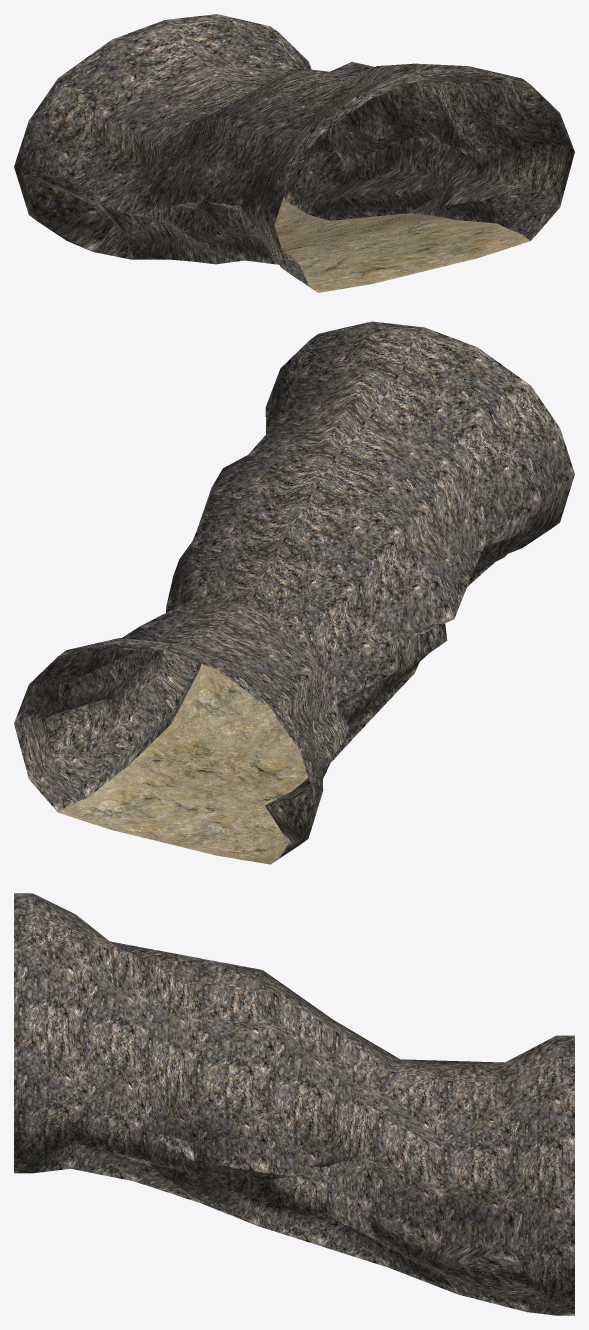
The model's file is pir_m_are_cav_hallWideAscend.fbx.
3 renders of one model, top to bottom at view 1: azimuth 30°, elevation 25°; view 2: azimuth 150°, elevation 25°; view 3: azimuth 270°, elevation 25°, orthographic. The views are drawn at different scales.
Visible parts, largest first — view 1: hallWideAscend_wall, hallWideAscend_floor; view 2: hallWideAscend_wall, hallWideAscend_floor; view 3: hallWideAscend_wall.
Boxes of the visible parts, bbox=[...] form: hallWideAscend_wall: bbox=[14, 14, 574, 290]; hallWideAscend_floor: bbox=[274, 197, 530, 292]; hallWideAscend_wall: bbox=[14, 321, 574, 862]; hallWideAscend_floor: bbox=[58, 664, 308, 864]; hallWideAscend_wall: bbox=[14, 893, 574, 1315].
Bounding box in the file's own units: 10000 × 10325 × 15000.
Materials: 2 (2 with a texture image).
